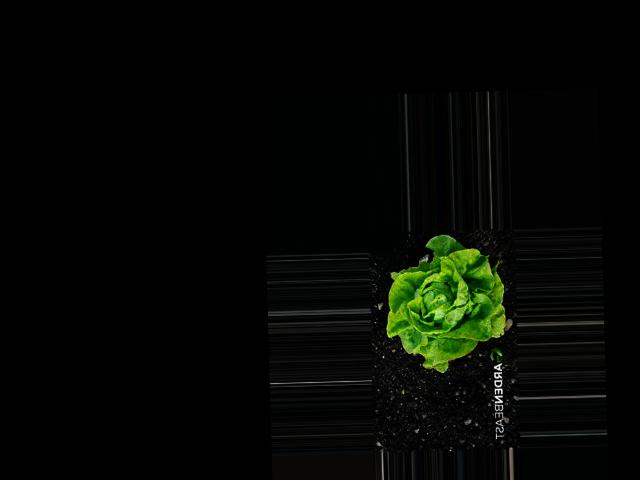lettuce: (391, 255, 504, 357)
